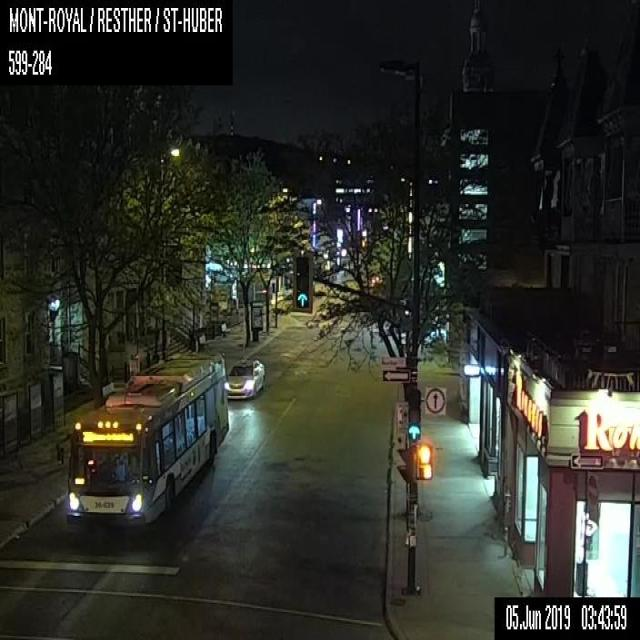bus: (65, 353, 228, 524)
vehicle: (224, 358, 265, 398)
